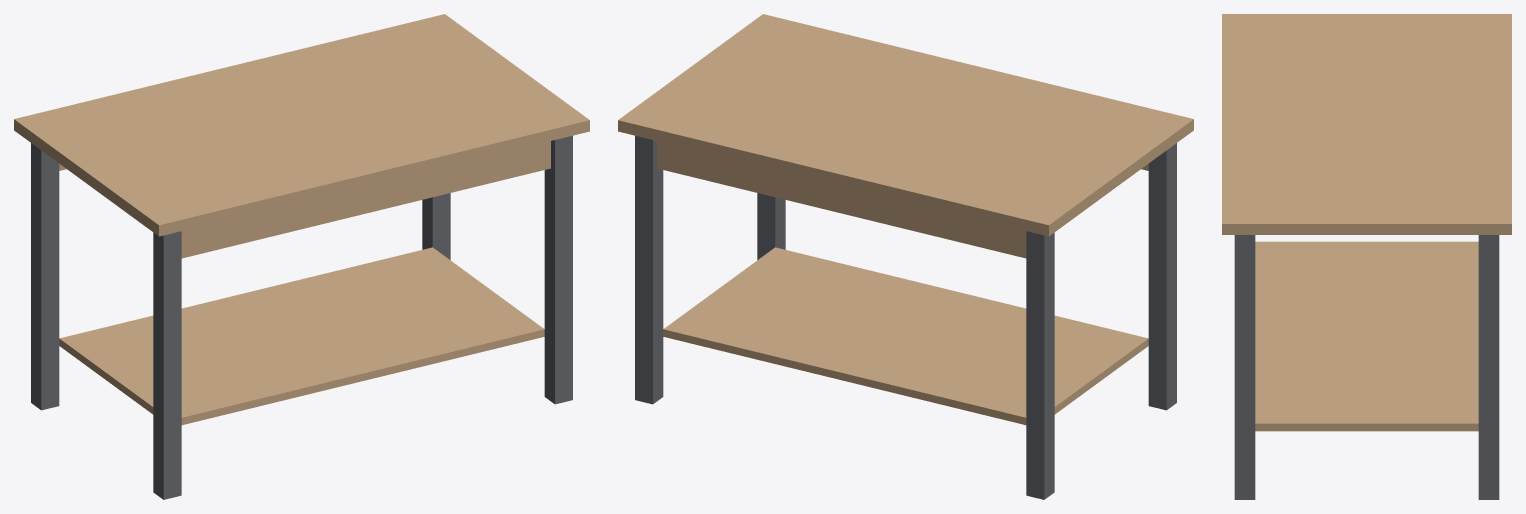
Rendered from desk.glb.
3 renders of one model, left to right at view 1: azimuth 30°, elevation 25°; view 2: azimuth 150°, elevation 25°; view 3: azimuth 270°, elevation 25°, orthographic.
Parts seen in each view (by area): view 1: Top, Shelf, Apron_Front, Leg_Front_Left, Leg_Front_Right, Leg_Back_Left, Leg_Back_Right; view 2: Top, Shelf, Apron_Back, Leg_Back_Left, Leg_Back_Right, Leg_Front_Left, Leg_Front_Right; view 3: Top, Shelf, Leg_Front_Right, Leg_Back_Right.
Part boxes in pixels (x1,y1,x2,y2): Top: (14, 14, 589, 236); Shelf: (59, 247, 544, 425); Apron_Front: (181, 141, 550, 258); Leg_Front_Left: (153, 231, 181, 499); Leg_Front_Right: (544, 135, 572, 404); Leg_Back_Left: (31, 143, 59, 410); Leg_Back_Right: (422, 193, 450, 259); Top: (618, 14, 1193, 236); Shelf: (663, 247, 1148, 425); Apron_Back: (657, 141, 1026, 258); Leg_Back_Left: (1026, 231, 1054, 499); Leg_Back_Right: (635, 135, 663, 404); Leg_Front_Left: (1148, 143, 1176, 410); Leg_Front_Right: (757, 193, 785, 259); Top: (1222, 14, 1511, 234); Shelf: (1255, 241, 1478, 431); Leg_Front_Right: (1234, 235, 1255, 499); Leg_Back_Right: (1478, 235, 1499, 499).
Bounding box in the file's own units: 1.2 × 0.75 × 0.7.
